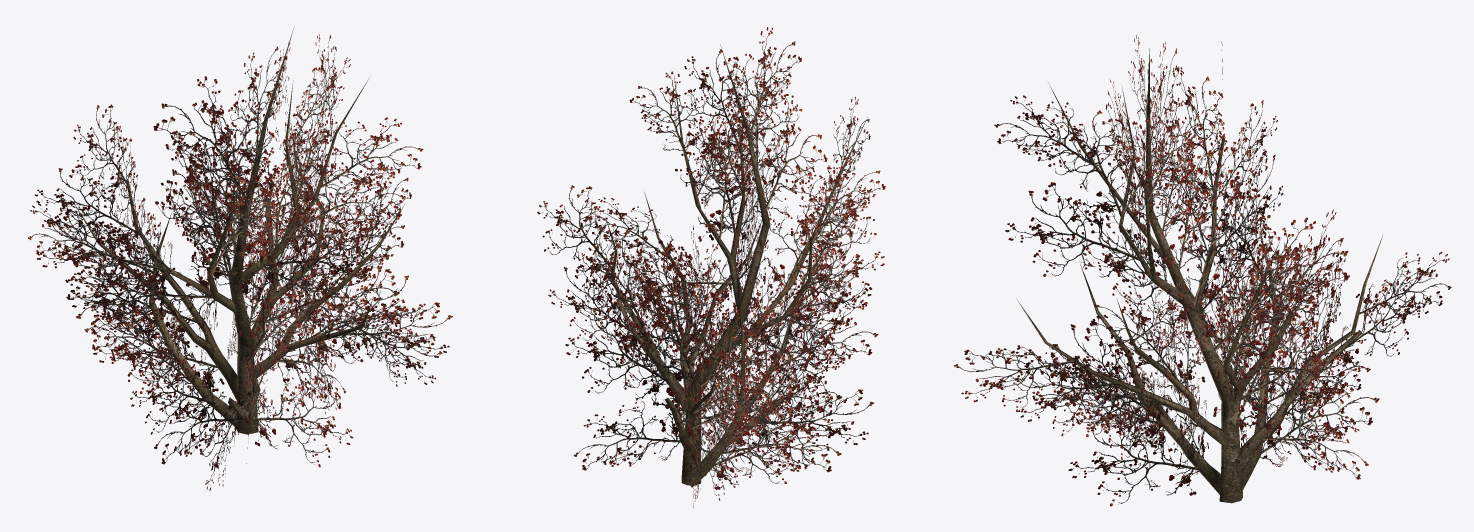
3 renders of one model, left to right at view 1: azimuth 30°, elevation 25°; view 2: azimuth 150°, elevation 25°; view 3: azimuth 270°, elevation 25°, orthographic. The views are drawn at different scales.
Visible parts, largest first — view 1: 705; view 2: 705; view 3: 705.
Part boxes in pixels (<box>): 705: <box>28,28,452,490</box>; 705: <box>537,27,885,507</box>; 705: <box>954,35,1451,506</box>.
Size of the model in its own units: 13.69 by 17.25 by 16.09.
